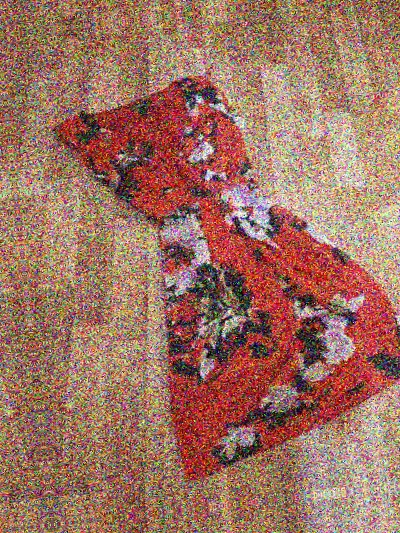Dress: (27, 37, 400, 492), (0, 84, 24, 533), (80, 512, 400, 533)
